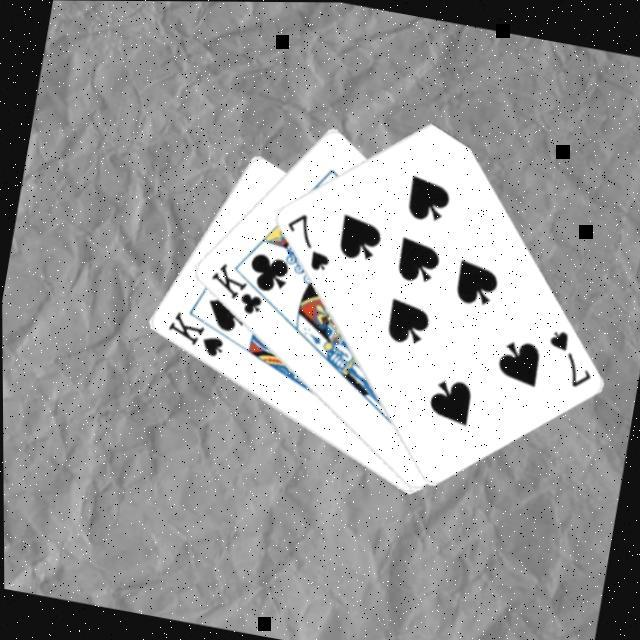7S: (276, 208, 340, 276), (537, 325, 601, 393)
KC: (202, 258, 282, 322)
KS: (160, 307, 231, 361)
